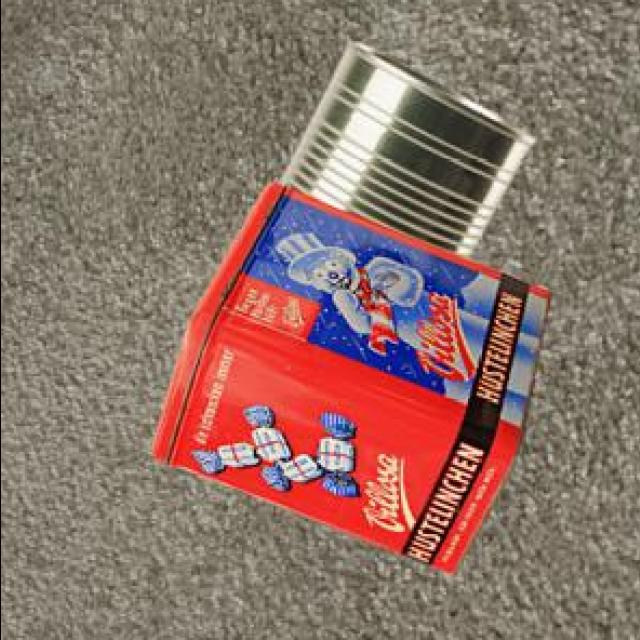logam: (148, 187, 546, 581), (276, 46, 531, 263)
